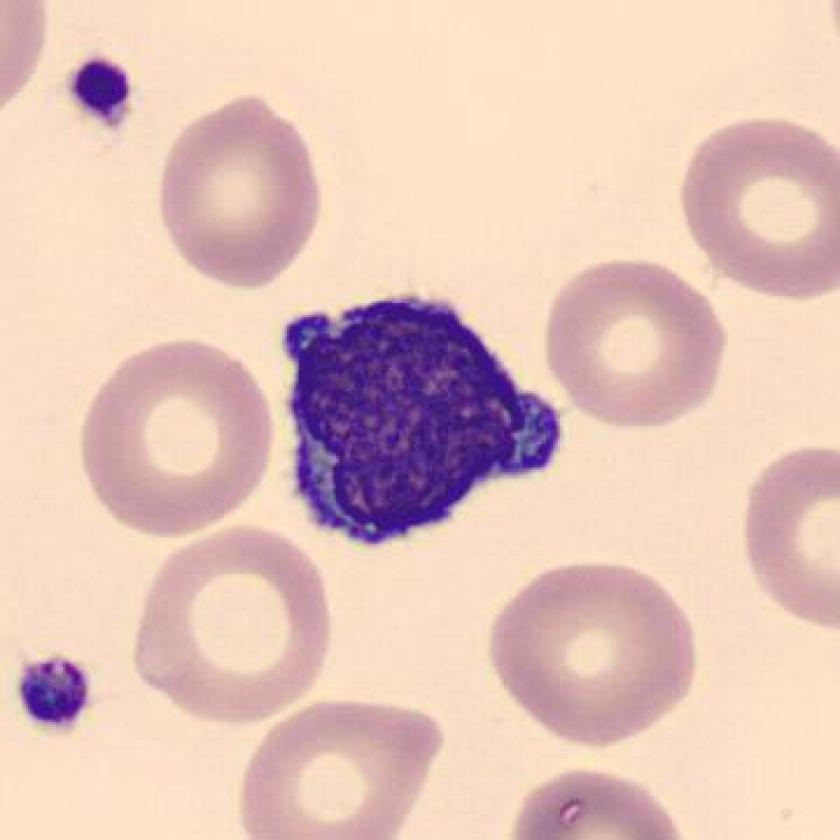lymphocyte: (262, 274, 575, 552)
platelets: (12, 647, 105, 737), (62, 53, 146, 119)
